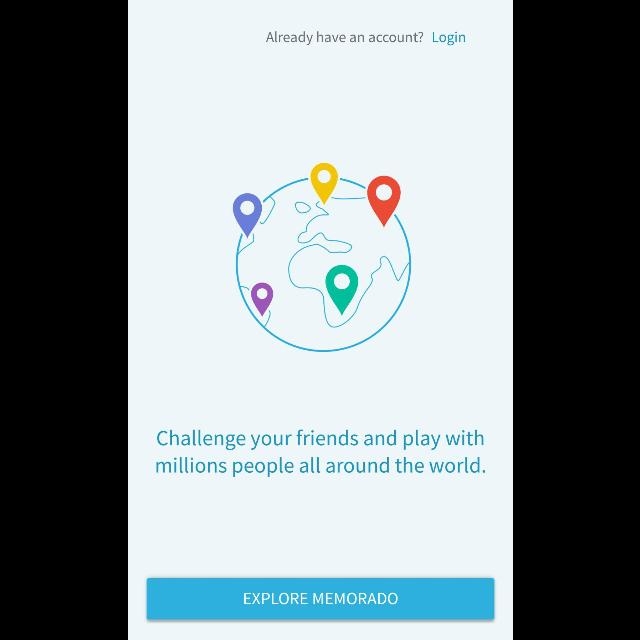image: (232, 162, 410, 352)
text: (156, 430, 484, 478), (265, 32, 423, 46), (432, 32, 464, 46)
textbutton: (146, 578, 494, 620)
